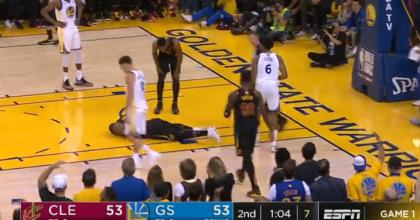10+: (1, 1, 420, 204)
down: (106, 117, 222, 145)
